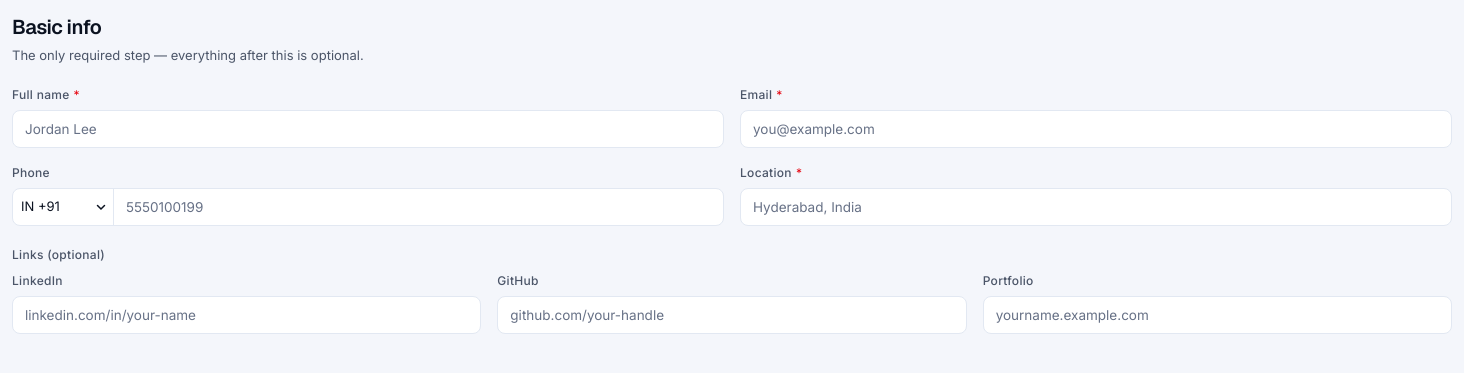
BasicInfoForm › validation on blur › shows an error for a required field only after it's blurred
Click the field labelled "Full name". click: (368, 129)
box: 12,110 -> 724,148
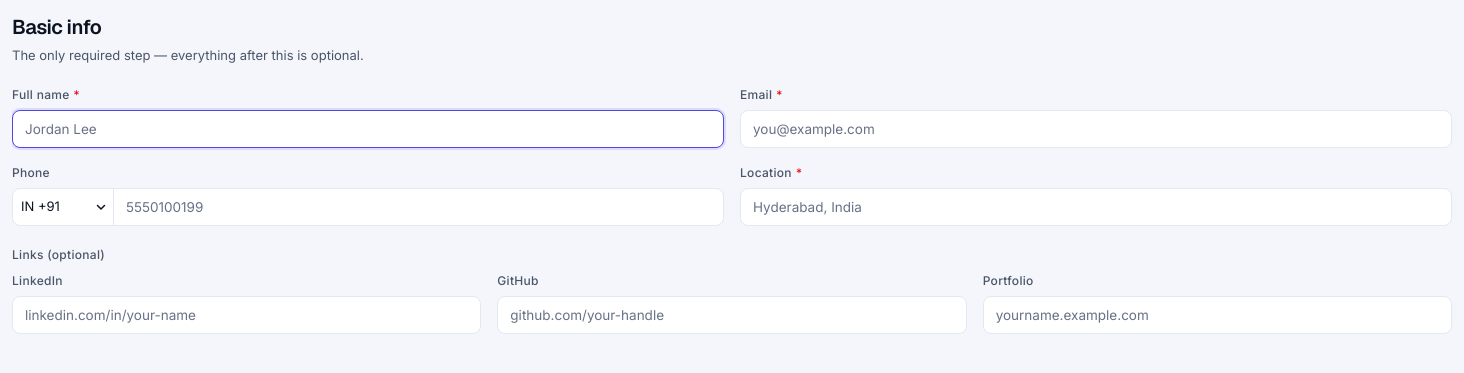
Expected: the text "Enter your full name." is not shown
Press Tab
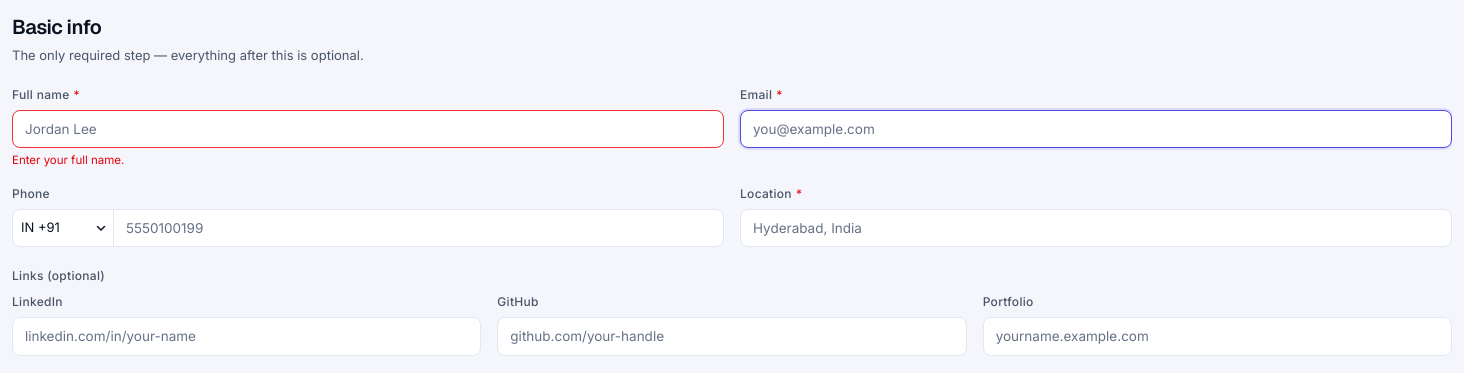
Expected: the text "Enter your full name." is shown, 12,153 -> 124,167
